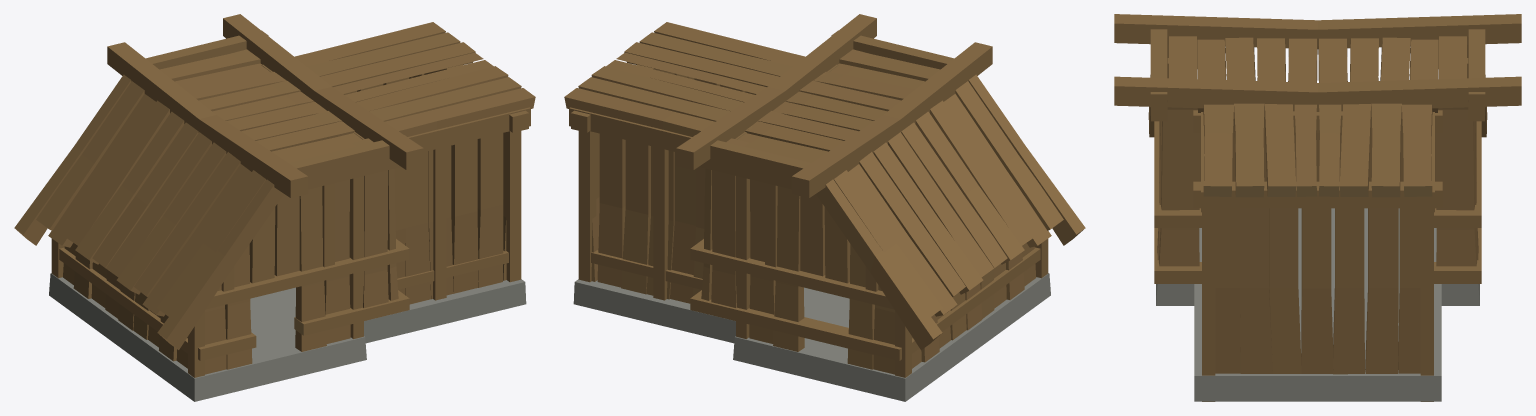
File: quaternius-real-time-strategy-houses-first-age-2-level-3.glb
3 views of the same model, side by side, from view 1: azimuth 30°, elevation 25°; view 2: azimuth 150°, elevation 25°; view 3: azimuth 270°, elevation 25° (orthographic). The views are drawn at different scales.
Visible parts, largest first — view 1: Houses_FirstAge_2_Level3; view 2: Houses_FirstAge_2_Level3; view 3: Houses_FirstAge_2_Level3.
Part boxes in pixels (x1,y1,x2,y2): Houses_FirstAge_2_Level3: (14,14,535,401); Houses_FirstAge_2_Level3: (564,14,1085,401); Houses_FirstAge_2_Level3: (1114,14,1521,401).
Bounding box in the file's own units: 1.46 × 0.7685 × 1.17.
